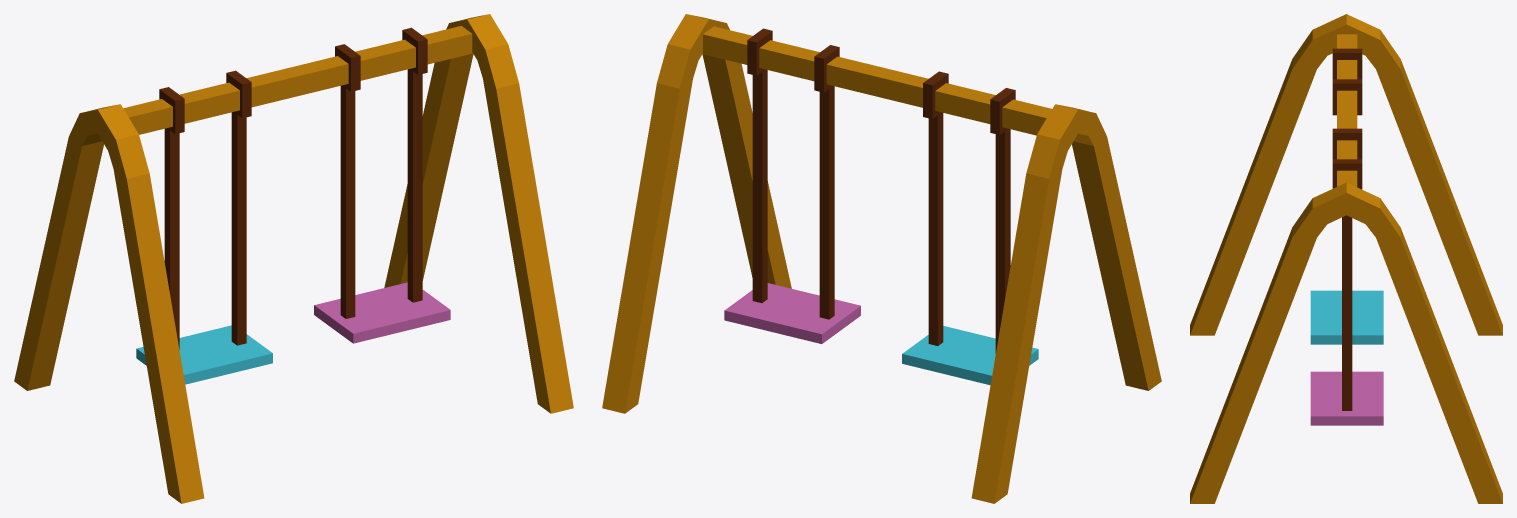
Rendered from Child Swing 2.fbx.
3 views of the same model, side by side, from view 1: azimuth 30°, elevation 25°; view 2: azimuth 150°, elevation 25°; view 3: azimuth 270°, elevation 25° (orthographic). The views are drawn at different scales.
Parts seen in each view (by area): view 1: Child_Swing_02; view 2: Child_Swing_02; view 3: Child_Swing_02.
Part boxes in pixels (x1,y1,x2,y2): Child_Swing_02: [14, 14, 573, 503]; Child_Swing_02: [602, 14, 1161, 503]; Child_Swing_02: [1190, 14, 1502, 503].
Size of the model in its own units: 173 by 141 by 128.
